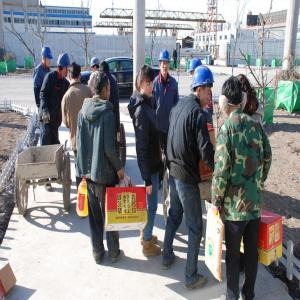blue: (193, 66, 215, 107), (57, 53, 71, 78), (158, 49, 171, 75), (41, 46, 53, 67), (90, 57, 100, 75)
none: (220, 76, 245, 119), (137, 63, 157, 100), (93, 73, 112, 104), (68, 62, 83, 85)
